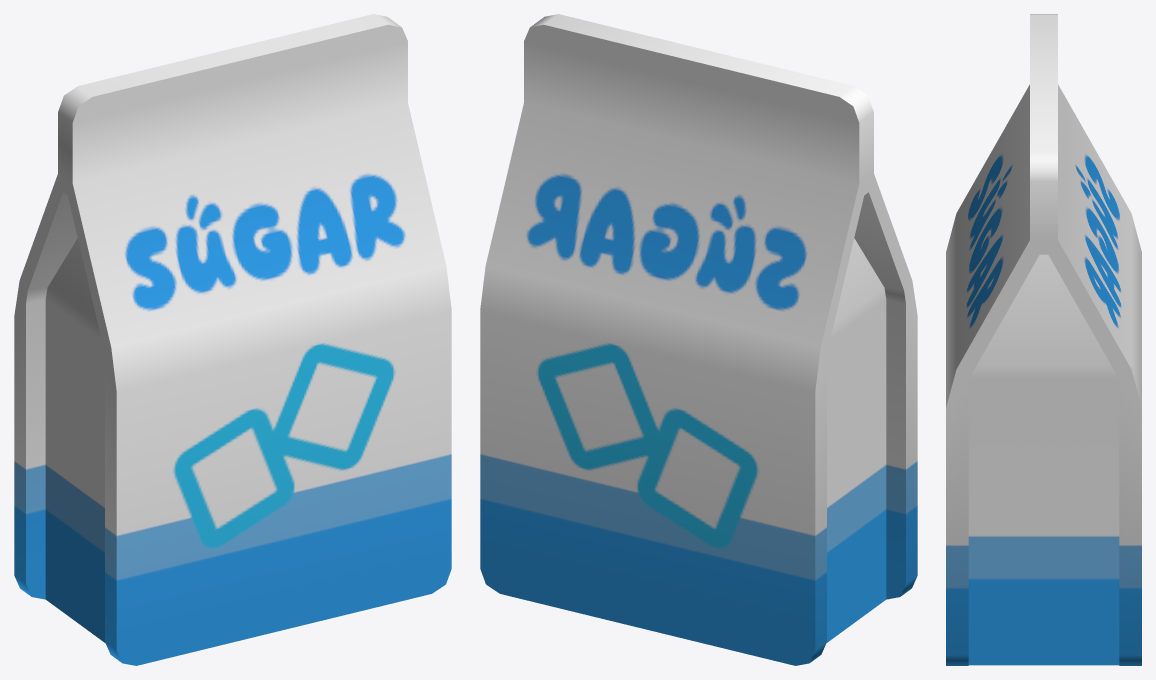
Rendered from Packet_Sugar_01.fbx.
3 renders of one model, left to right at view 1: azimuth 30°, elevation 25°; view 2: azimuth 150°, elevation 25°; view 3: azimuth 270°, elevation 25°, orthographic. The views are drawn at different scales.
Visible parts, largest first — view 1: Packet_Sugar_01; view 2: Packet_Sugar_01; view 3: Packet_Sugar_01.
Part boxes in pixels (bbox=[...]): Packet_Sugar_01: bbox=[14, 14, 451, 665]; Packet_Sugar_01: bbox=[480, 14, 917, 665]; Packet_Sugar_01: bbox=[946, 14, 1141, 665].
Size of the model in its own units: 55.25 by 84.6 by 29.27.
